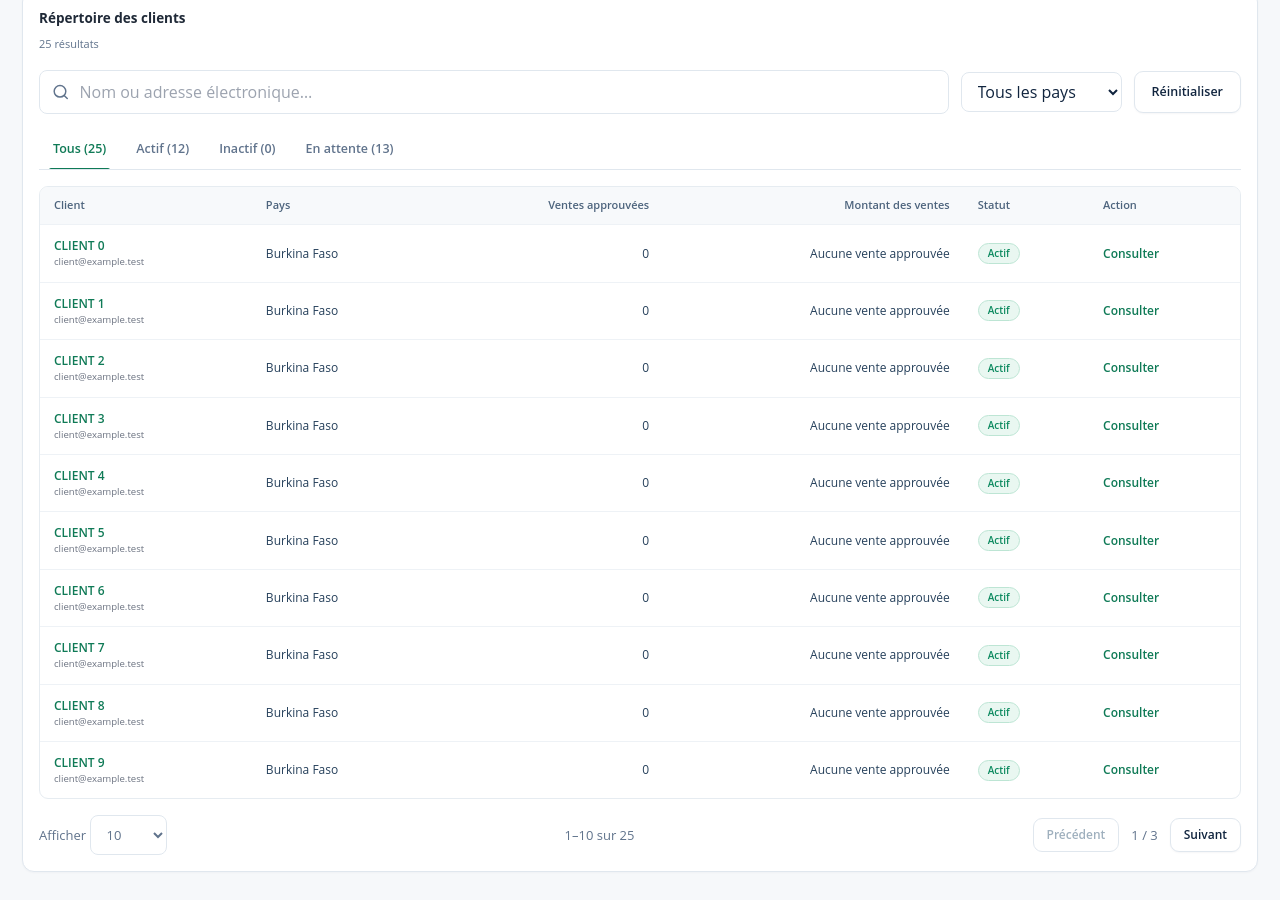
Scenario: Vues Clients — composants sans serveur réel › calcule les compteurs avant pagination et combine recherche et statut
The width and height of the screenshot is (1280, 900).
(page scrolled)
Expected: the tab "Tous (25)" is shown, [39,130,120,169]
Expected: the tab "Actif (12)" is shown, [122,130,203,169]
Click the button "Suivant" at (1205, 835), box [1170,818,1241,852]
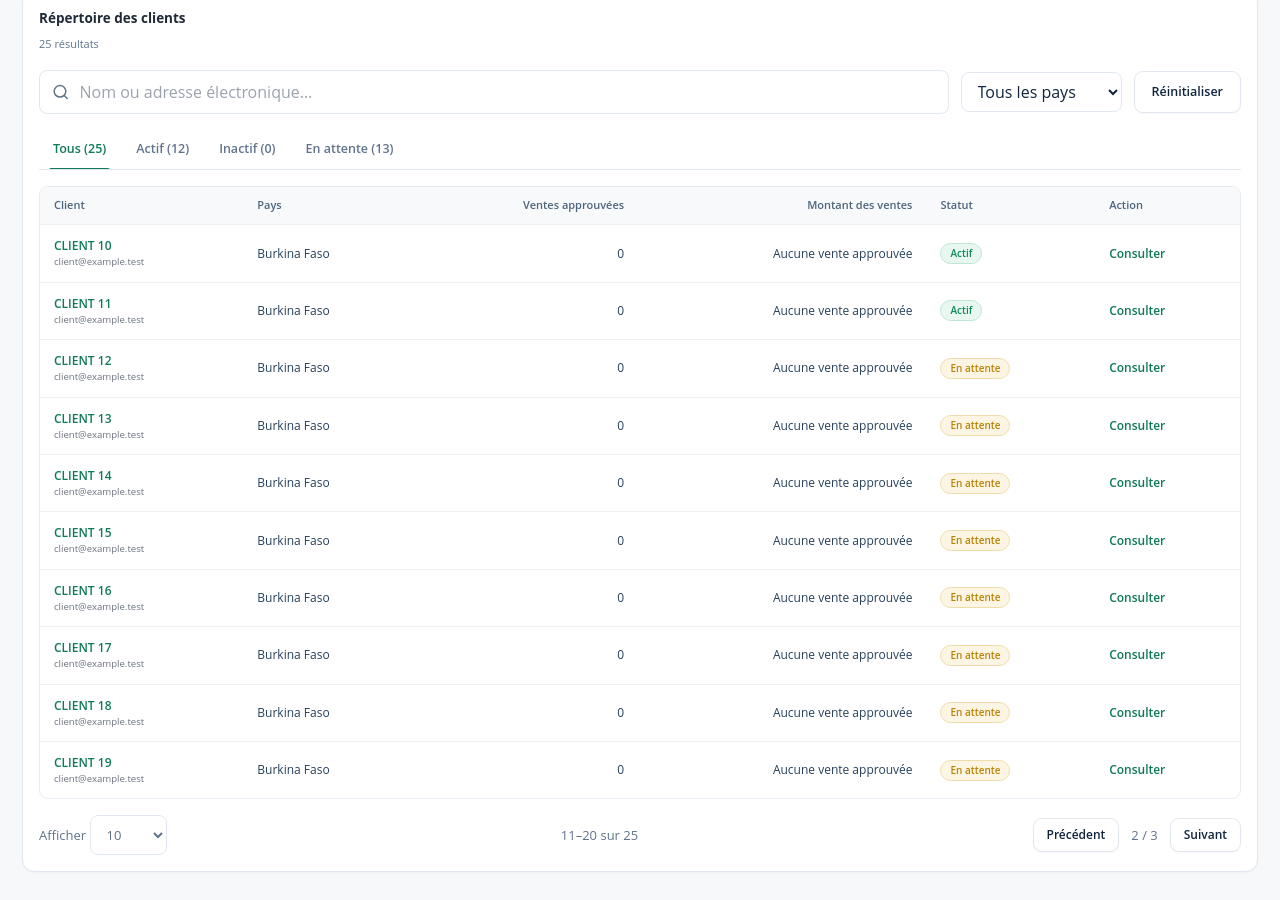
Result: the link with aria-label "Consulter CLIENT 10" is shown at [1109,245,1165,263]
Type "CLIENT 24" into the field named "Rechercher un client" at (508, 92), box [79,71,936,113]
(page scrolled)
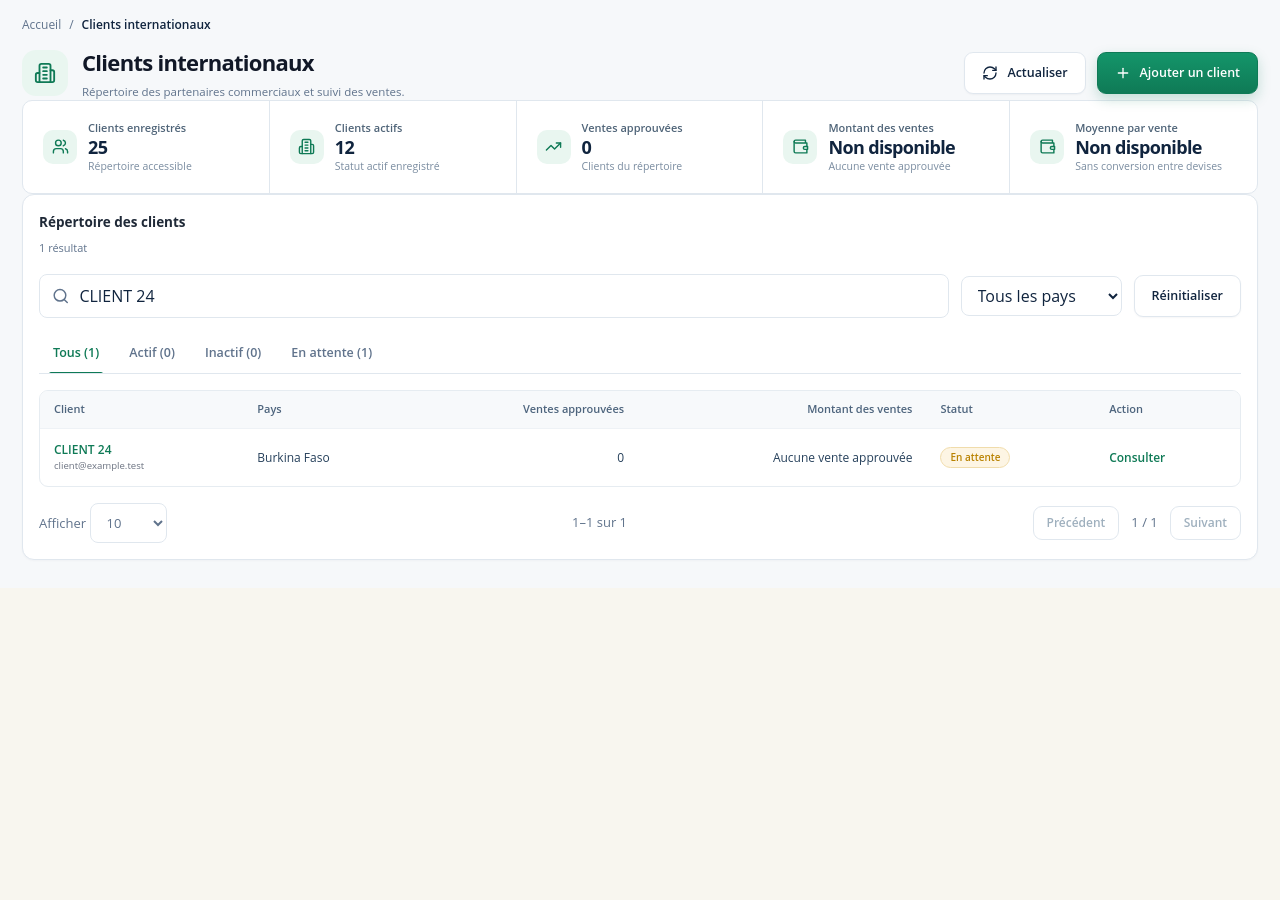
Result: the tab "Tous (1)" is shown at [39,334,113,373]
Result: the link with aria-label "Consulter CLIENT 24" is shown at [1109,449,1165,467]
